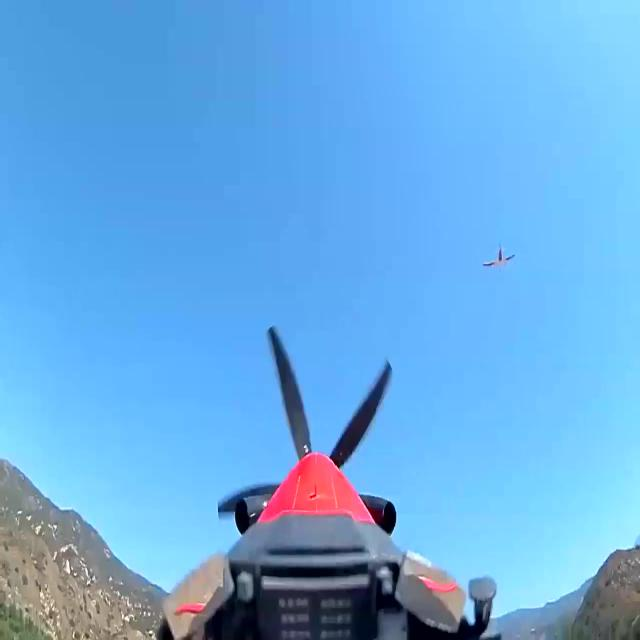iha: (482, 240, 515, 273)
